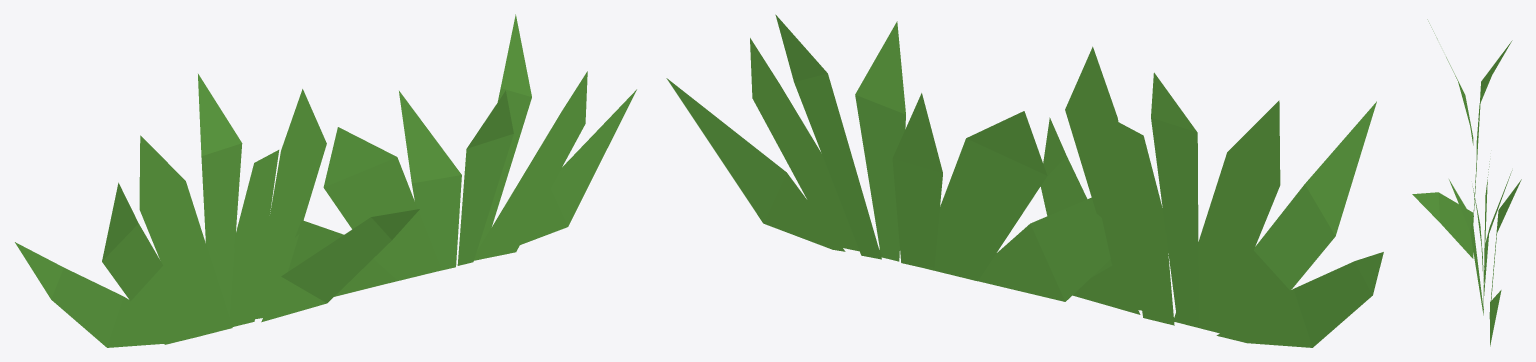
Rendered from grass-long.glb.
3 views of the same model, side by side, from view 1: azimuth 30°, elevation 25°; view 2: azimuth 150°, elevation 25°; view 3: azimuth 270°, elevation 25° (orthographic). The views are drawn at different scales.
Parts seen in each view (by area): view 1: grass-long; view 2: grass-long; view 3: grass-long.
Part boxes in pixels (bbox=[...]): grass-long: bbox=[15, 14, 636, 347]; grass-long: bbox=[666, 14, 1383, 347]; grass-long: bbox=[1412, 19, 1521, 346].
Bounding box in the file's own units: 2.01 × 0.7394 × 0.4012.
1 material, 1 textured.
